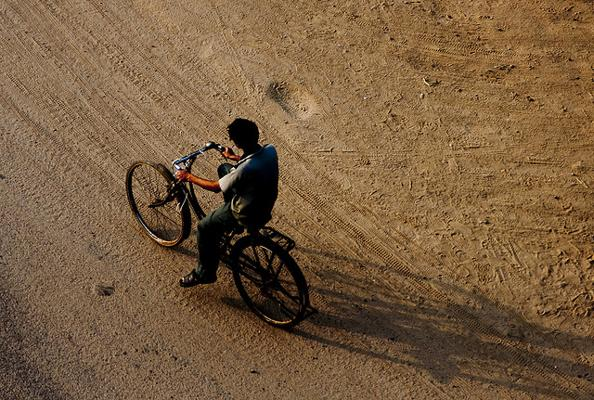person: (176, 118, 280, 285)
